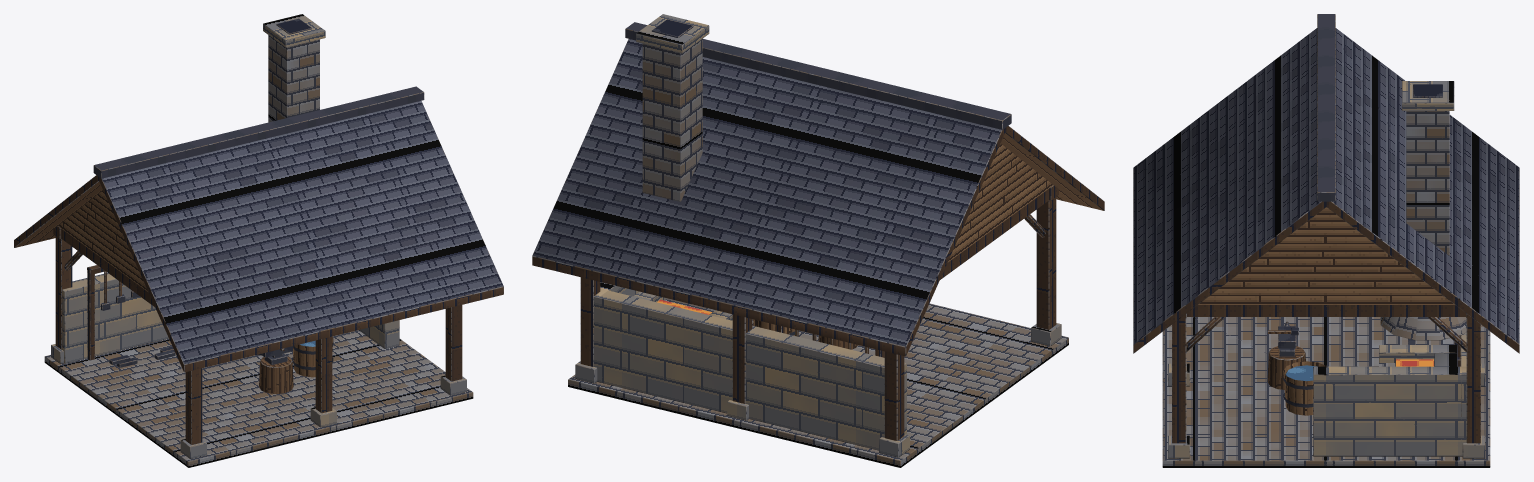
File: smithy_2.glb
3 renders of one model, left to right at view 1: azimuth 30°, elevation 25°; view 2: azimuth 150°, elevation 25°; view 3: azimuth 270°, elevation 25°, orthographic. The views are drawn at different scales.
Parts seen in each view (by area): view 1: smithy_3; view 2: smithy_3; view 3: smithy_3.
Boxes of the visible parts, x1,y1,x2,y2 form: smithy_3: (14, 14, 503, 467); smithy_3: (532, 14, 1104, 467); smithy_3: (1133, 14, 1519, 467).
Size of the model in its own units: 6.46 by 5.77 by 5.9.
Materials: 13 (13 with a texture image).
